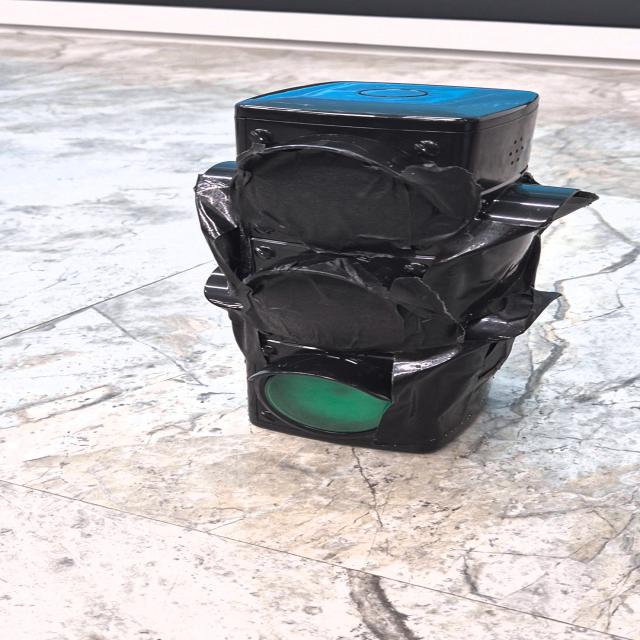green_light: (265, 374, 390, 432)
